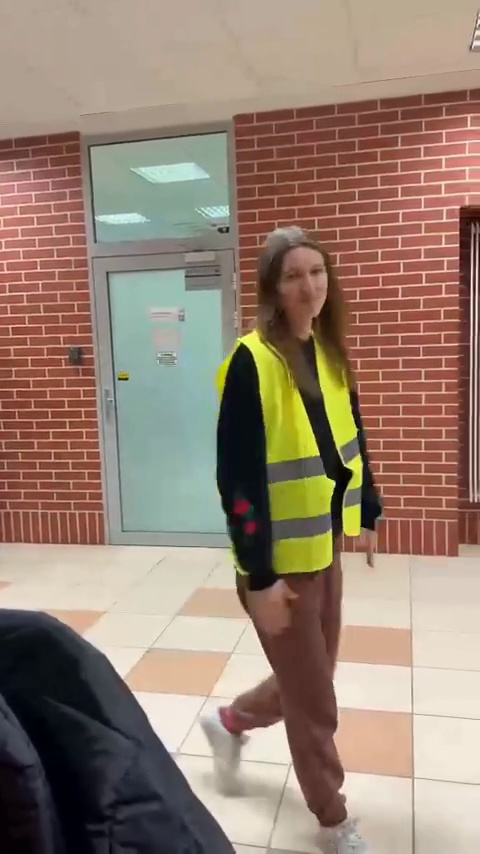vest: (213, 225, 404, 821)
